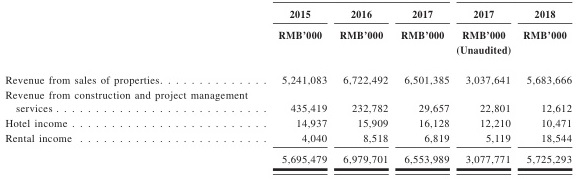column: (4, 1, 267, 179), (457, 1, 511, 179), (400, 1, 451, 179), (278, 1, 328, 179), (523, 1, 573, 179), (339, 1, 388, 179)
row: (1, 8, 576, 20), (1, 90, 576, 101), (1, 103, 576, 114), (1, 45, 575, 56), (1, 119, 576, 129), (1, 134, 576, 144), (1, 30, 575, 40), (1, 154, 575, 164), (1, 75, 574, 84)
